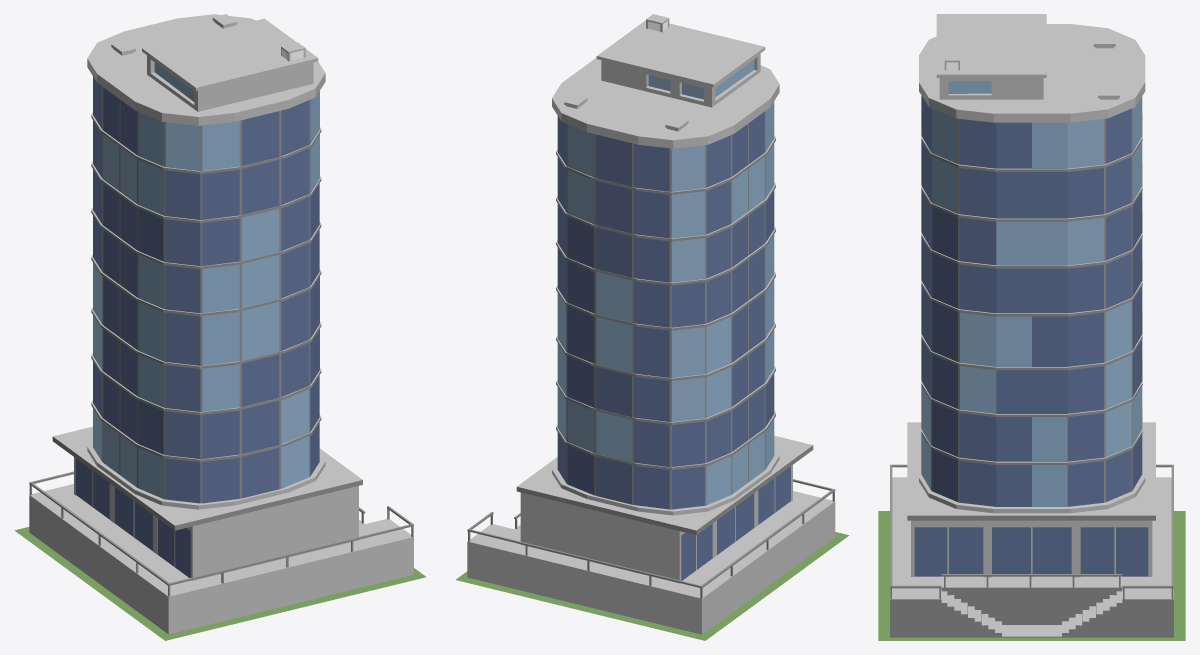
The model's file is city9.obj.
The picture shows the model from 3 angles, left to right: view 1: azimuth 30°, elevation 25°; view 2: azimuth 150°, elevation 25°; view 3: azimuth 270°, elevation 25°; orthographic projection. The views are drawn at different scales.
Visible parts, largest first — view 1: Plane.020_Plane.044, Plane.057_Plane.802; view 2: Plane.020_Plane.044, Plane.057_Plane.802; view 3: Plane.020_Plane.044, Plane.057_Plane.802.
Boxes of the visible parts, box(x1,y1,x2,y2) form: Plane.020_Plane.044: box(29, 14, 413, 634); Plane.057_Plane.802: box(14, 527, 426, 640); Plane.020_Plane.044: box(467, 14, 835, 634); Plane.057_Plane.802: box(456, 532, 848, 640); Plane.020_Plane.044: box(890, 14, 1173, 637); Plane.057_Plane.802: box(878, 511, 1185, 640).
Bounding box in the file's own units: 0.08 × 0.1544 × 0.08.
Materials: 2 (2 with a texture image).
